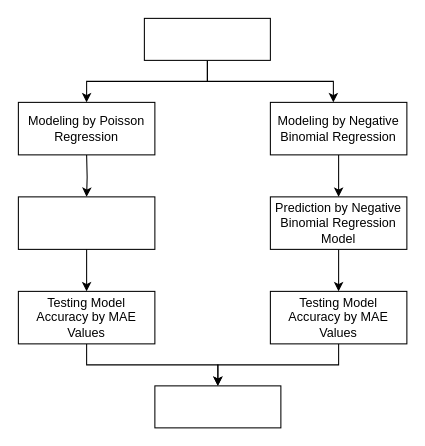
Image size: 425x446. Some labels were removed from this diagram. Each missing label, with the centre of its shape:
Data Preparation: the point at 206,38
Prediction by Poisson Regression Model: the point at 86,222
Selection of the Best Model: the point at 217,406
